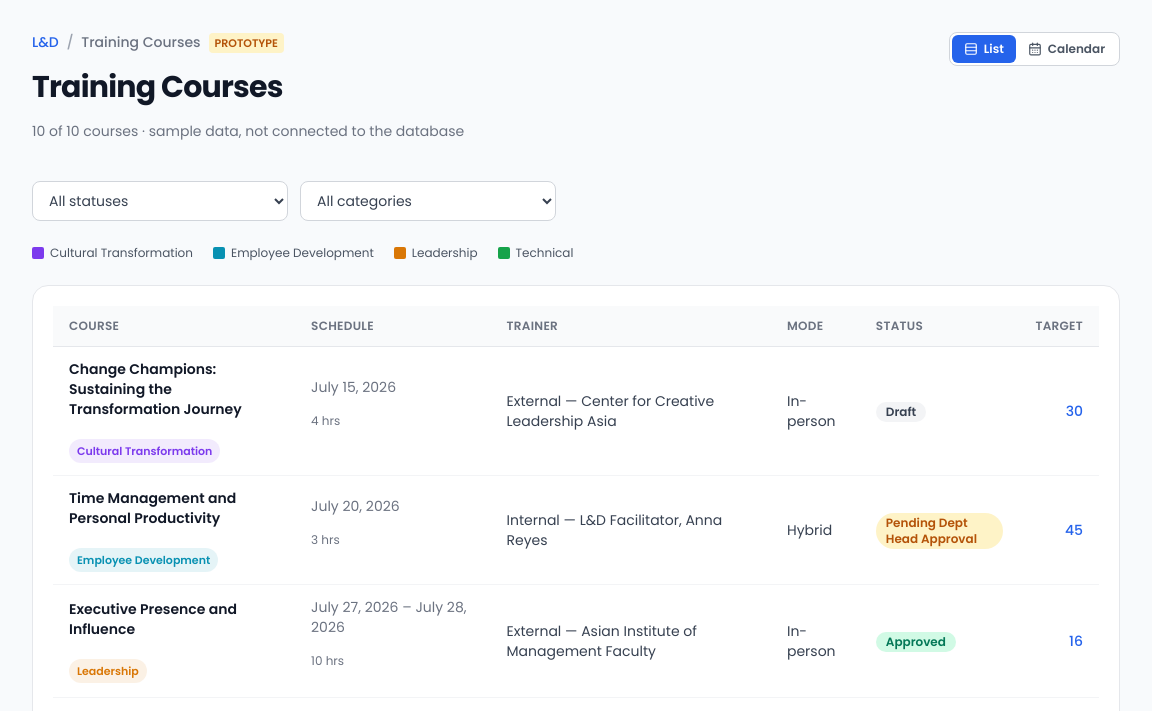
Test case: TrainingCoursesPrototype › filters by category, and combines with status
Select "Technical" in the 2nd dropdown: (428, 201) [300,181,556,221]
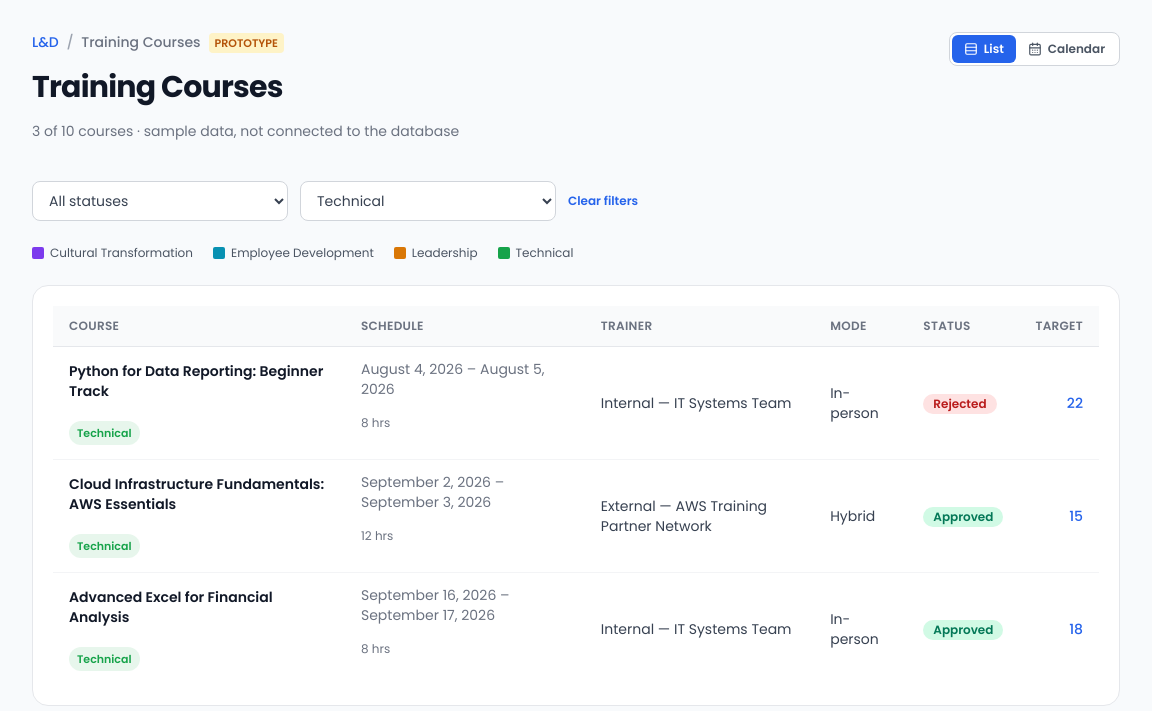
Expected: the text "3 of 10 courses · sample data, not connected to the database" is shown, [32,121,459,141]
Select "Approved" in the 1st dropdown: (160, 201) [32,181,288,221]
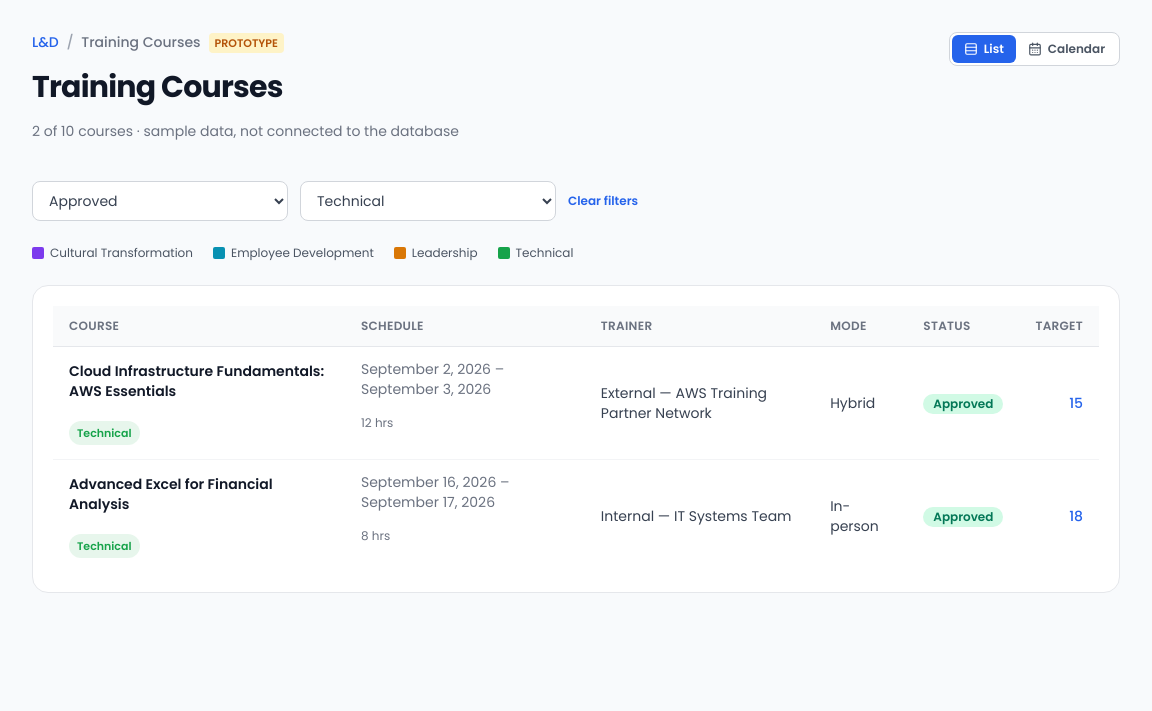
Expected: the text "2 of 10 courses · sample data, not connected to the database" is shown, [32,121,459,141]
Expected: the text "Python for Data Reporting: Beginner Track" is gone
